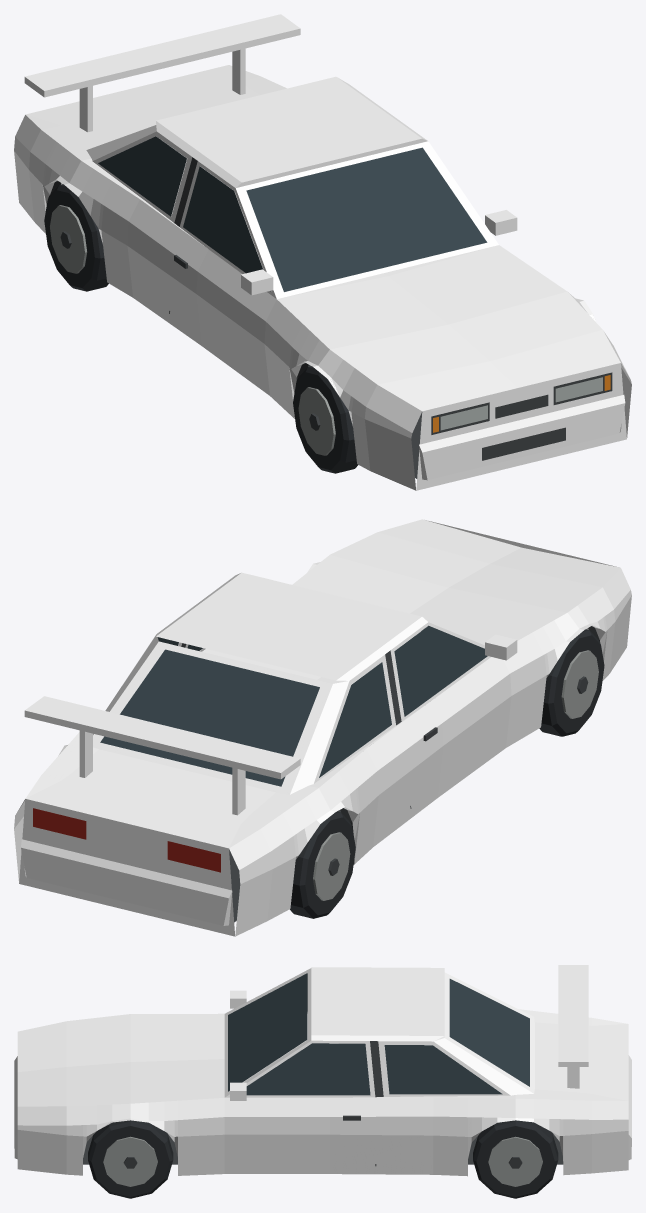
The model's file is kanaya_umikaze_corrida_98.glb.
3 renders of one model, top to bottom at view 1: azimuth 30°, elevation 25°; view 2: azimuth 150°, elevation 25°; view 3: azimuth 270°, elevation 25°, orthographic. The views are drawn at different scales.
Visible parts, largest first — view 1: kanaya_umikaze_corrida_98; view 2: kanaya_umikaze_corrida_98; view 3: kanaya_umikaze_corrida_98.
Boxes of the visible parts, <box> form: kanaya_umikaze_corrida_98: <box>14,14,631,490</box>; kanaya_umikaze_corrida_98: <box>14,519,631,936</box>; kanaya_umikaze_corrida_98: <box>14,965,631,1198</box>.
Size of the model in its own units: 1.75 by 1.19 by 4.46.
8 materials, 1 textured.
